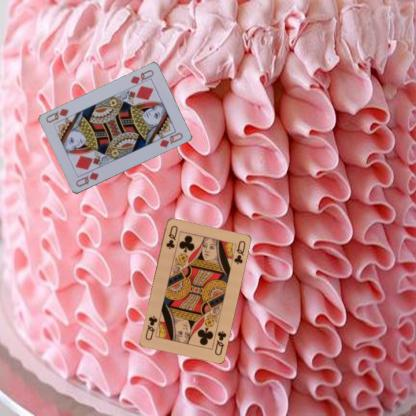Qc: (212, 328, 228, 357), (163, 223, 178, 250)
Qd: (128, 67, 155, 90), (73, 170, 100, 188)
